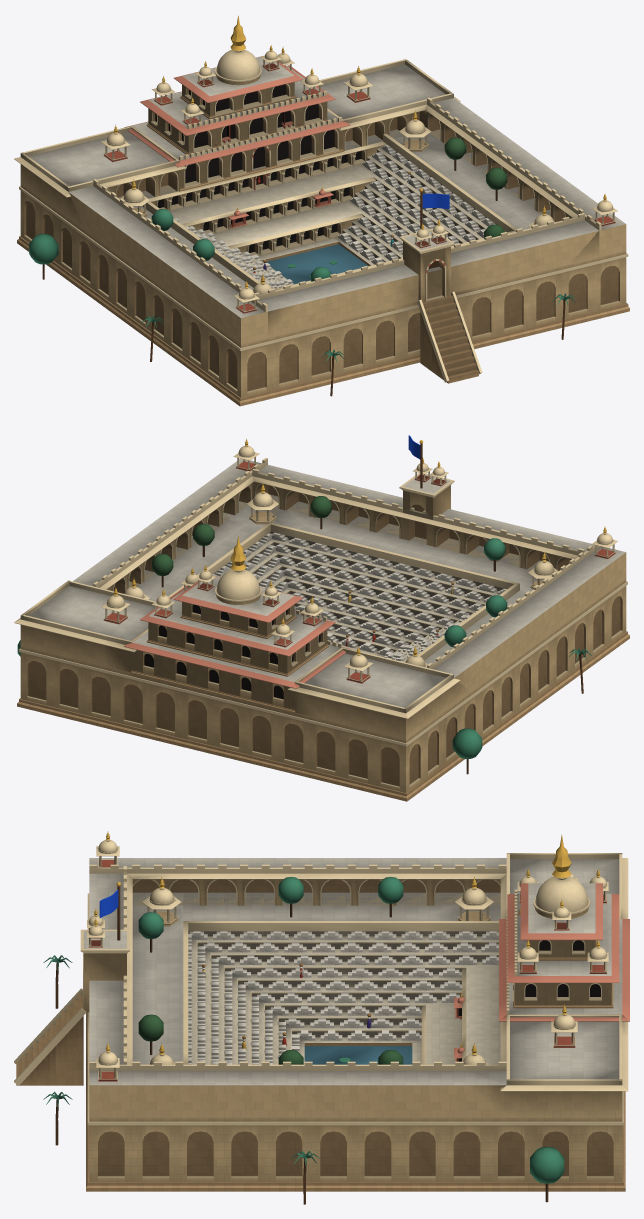
Rendered from lm_basamaklikuyu.glb.
The picture shows the model from 3 angles, top to bottom: view 1: azimuth 30°, elevation 25°; view 2: azimuth 150°, elevation 25°; view 3: azimuth 270°, elevation 25°; orthographic projection. The views are drawn at different scales.
Parts seen in each view (by area): view 1: lm_basamaklikuyu; view 2: lm_basamaklikuyu; view 3: lm_basamaklikuyu.
Part boxes in pixels (left/top/right/bottom): lm_basamaklikuyu: left=14, top=15, right=629, bottom=406; lm_basamaklikuyu: left=14, top=435, right=629, bottom=801; lm_basamaklikuyu: left=14, top=831, right=629, bottom=1204.
Size of the model in its own units: 2.35 by 0.9946 by 2.29.
1 material, 1 textured.
